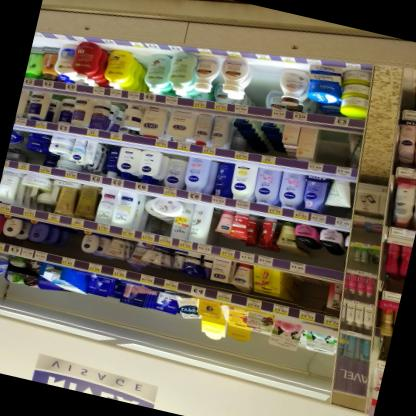empty_space: (291, 275, 330, 311), (253, 61, 285, 101), (317, 132, 352, 167), (60, 227, 84, 257)
